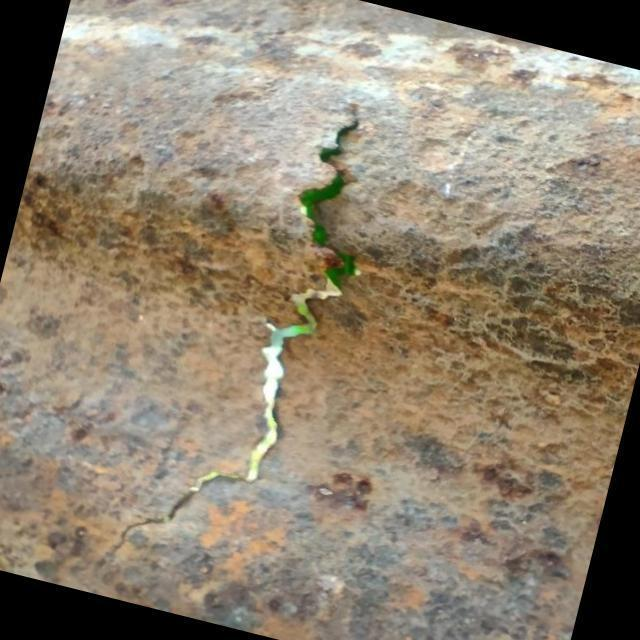defect: (92, 110, 369, 573)
